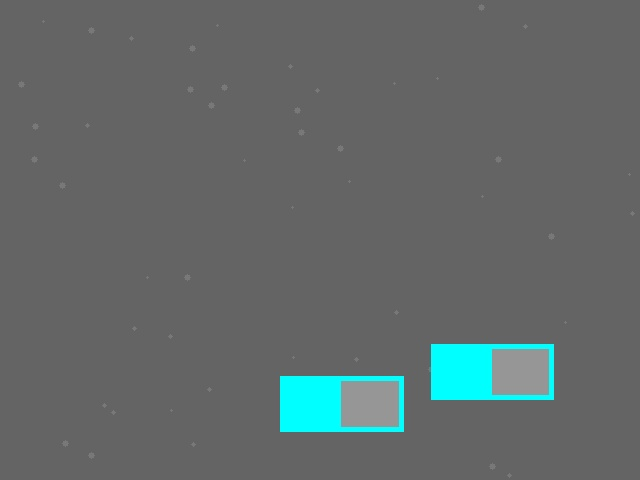truck: (280, 376, 403, 431), (431, 344, 553, 399)
